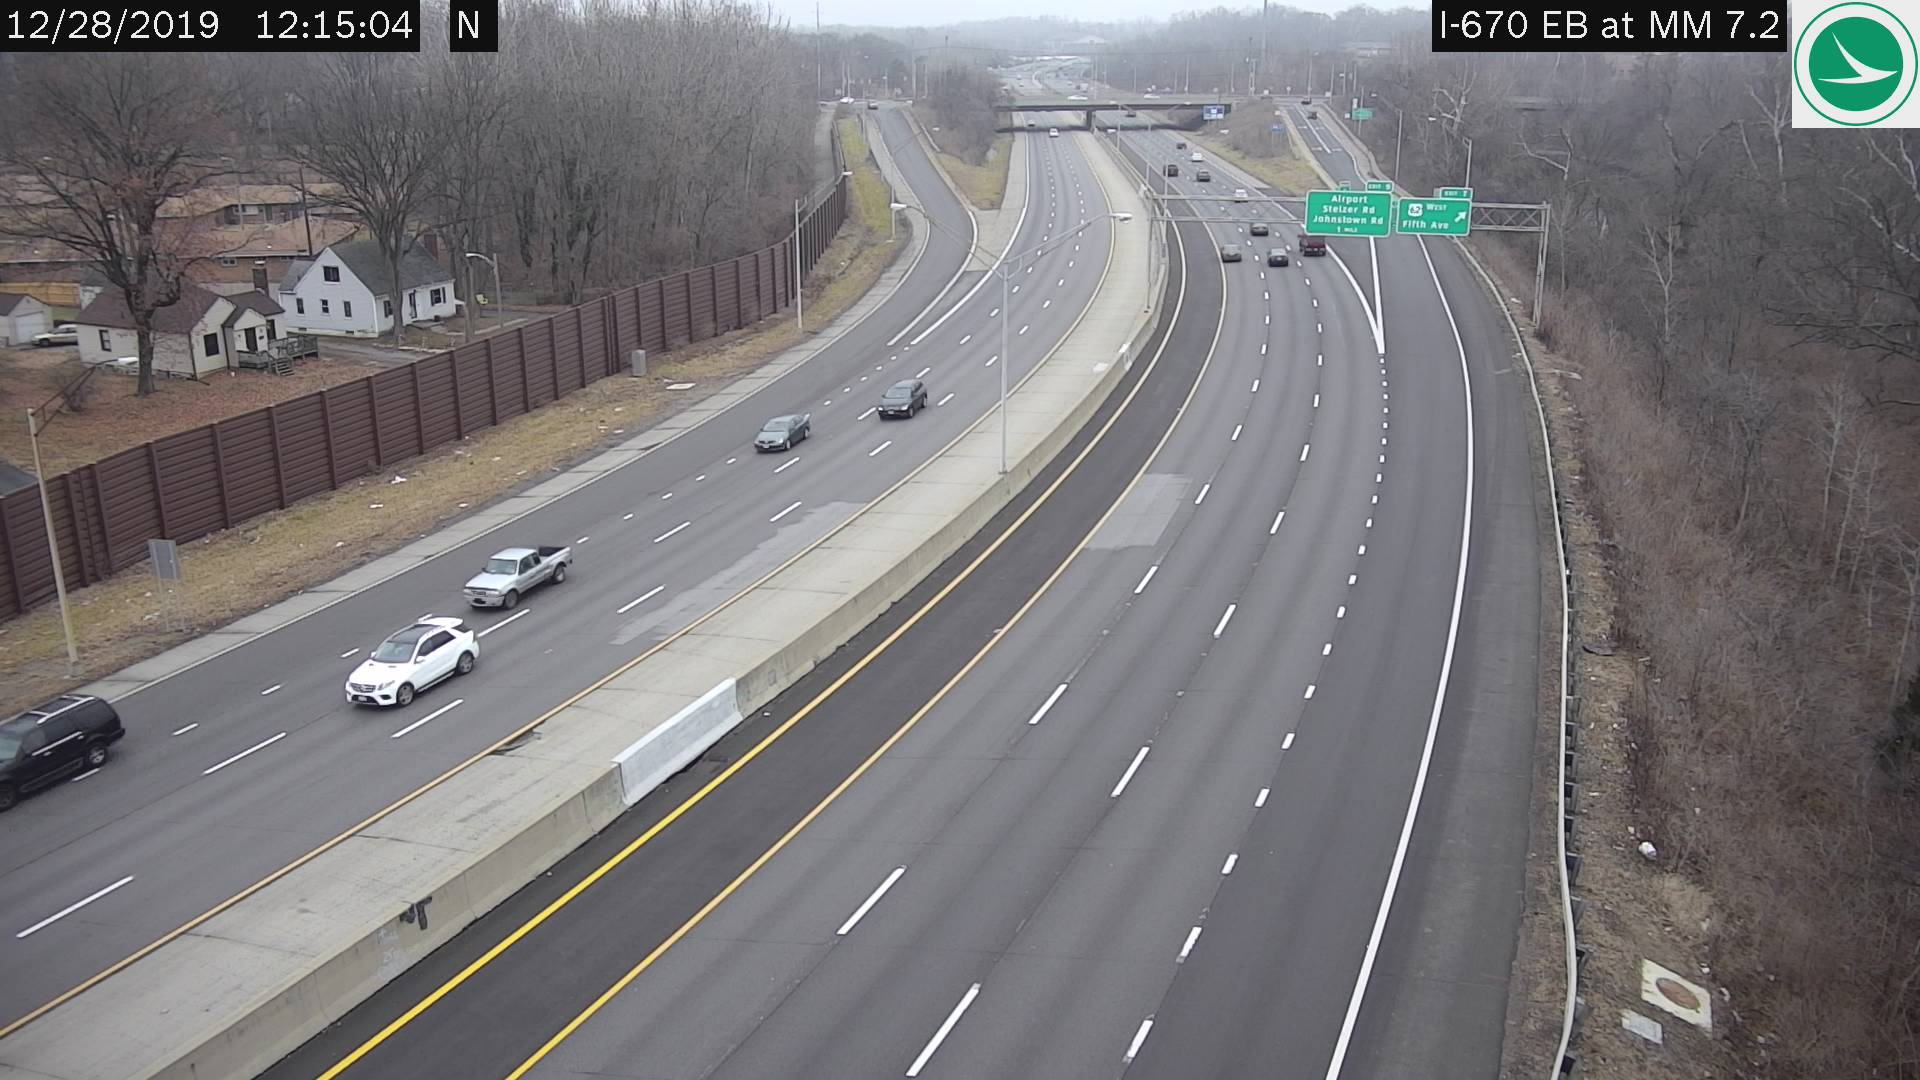car: (3, 692, 127, 816), (345, 616, 477, 712), (462, 545, 570, 608), (750, 415, 810, 452), (878, 380, 926, 419), (1298, 232, 1327, 256), (1218, 240, 1242, 260), (1266, 244, 1286, 268), (1162, 160, 1178, 175), (1250, 220, 1266, 232), (1197, 167, 1211, 179)
